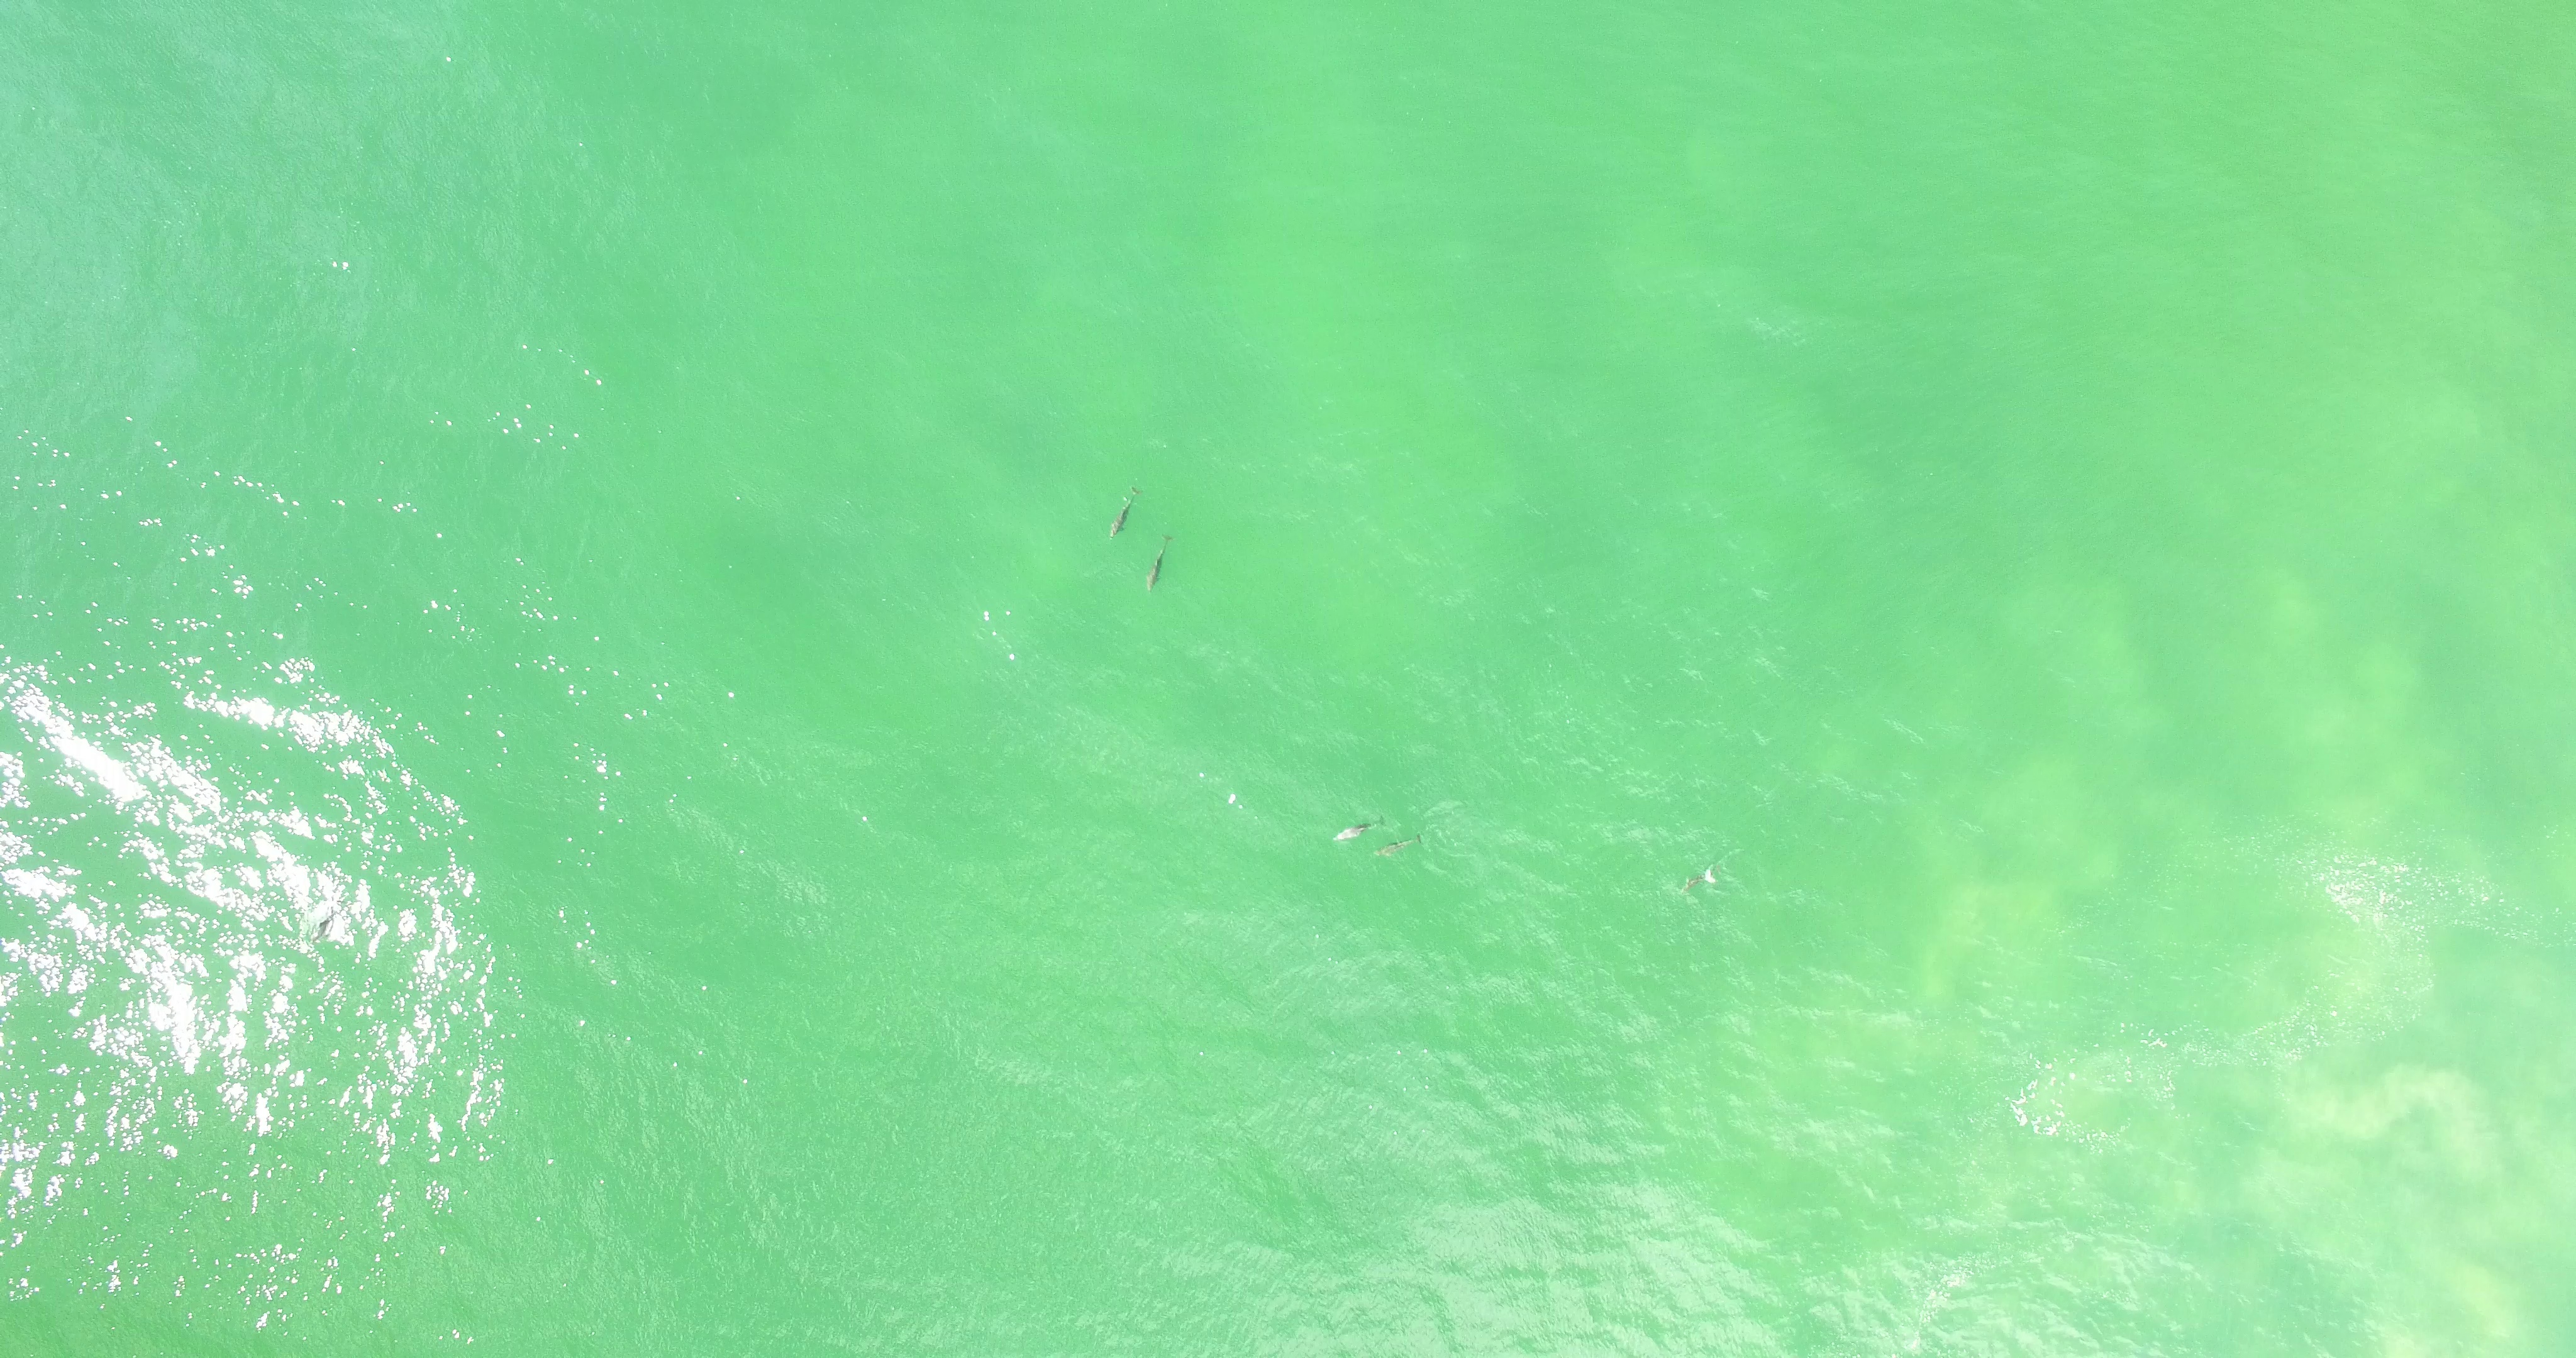dolphin: (1107, 482, 1143, 537), (1145, 530, 1176, 590), (1331, 816, 1387, 845), (1676, 866, 1717, 895), (310, 905, 337, 946), (1373, 837, 1424, 857)
